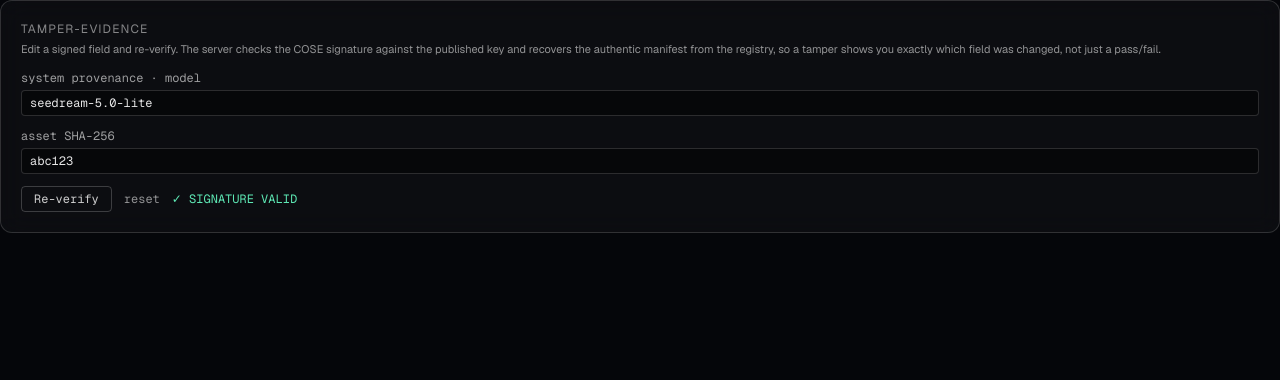
Scenario: TamperPanel › verifies the untouched manifest, then shows TAMPERED + the changed field after an edit
This screenshot has width=1280, height=380.
Expected: the text "✓ SIGNATURE VALID" is shown, [172,190,297,206]
Replace the text in the field showing "seedream-5.0-lite" with "evil-model" at (640, 102), box [21,90,1259,116]
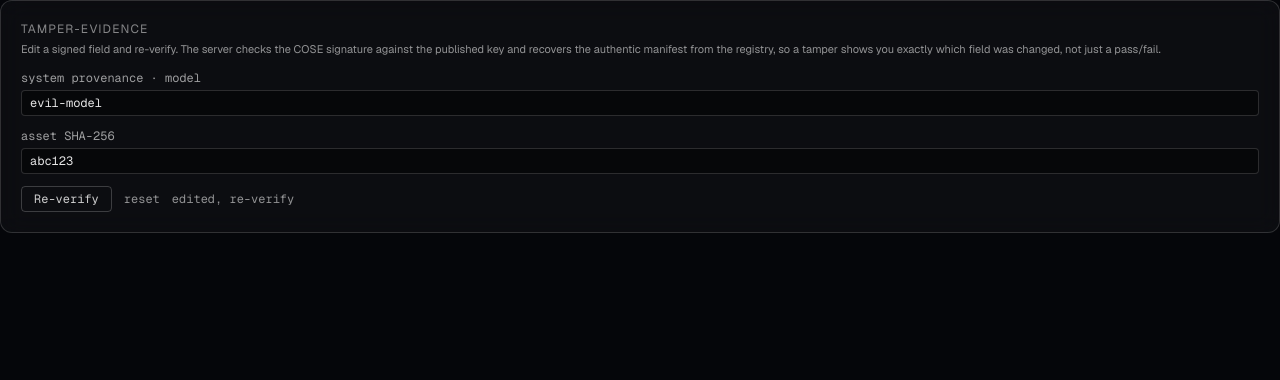
Click the button "Re-verify".
click(66, 198)  # box [21,186,112,212]
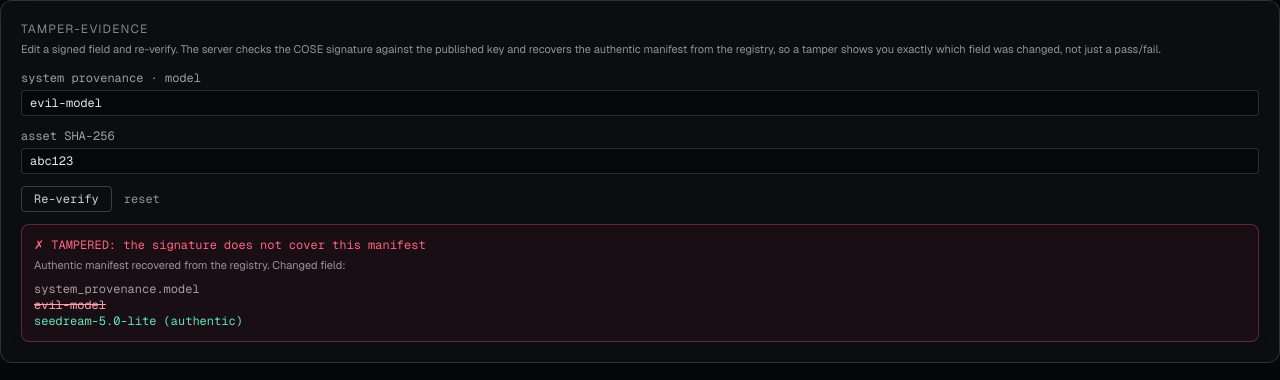
Result: the text "✗ TAMPERED: the signature does not cover this manifest" is shown at [34,236,426,252]
Result: the text "seedream-5.0-lite (authentic)" is shown at [34,313,243,329]
Result: the text "evil-model" is shown at [34,297,106,313]
